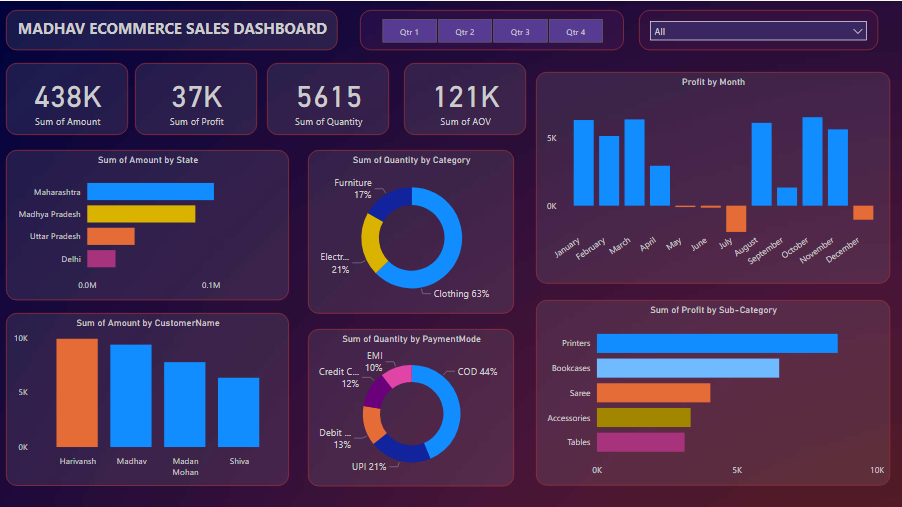

The dashboard page shown, as its layout file describes it:
{"tool":"powerbi","page":{"name":"Page 1","canvas":[1280,720],"ordinal":0},"visuals":[{"type":"textbox","box":[10.1,13.4,469.7,57],"z":0},{"type":"columnChart","title":"Profit by Month","fields":{"Category":["Orders.Order Date.Variation.Date Hierarchy.Month"],"Y":["Sum(Details.Profit)"]},"box":[761.6,100.7,501.6,300.3],"z":1000},{"type":"barChart","fields":{"Category":["Details.Sub-Category"],"Y":["Sum(Details.Profit)"]},"box":[761.6,424.4,501.6,263.4],"z":2000},{"type":"donutChart","fields":{"Category":["Details.Category"],"Y":["Sum(Details.Quantity)"]},"box":[437.9,211.4,291.9,231.5],"z":3000},{"type":"donutChart","fields":{"Y":["Sum(Details.Quantity)"],"Category":["Details.PaymentMode"]},"box":[437.9,464.7,291.9,223.1],"z":4000},{"type":"card","fields":{"Values":["Sum(Details.Amount)"]},"box":[10.1,87.2,172.8,102.3],"z":5000},{"type":"card","fields":{"Values":["Sum(Details.Profit)"]},"box":[192.9,87.2,172.8,102.3],"z":6000},{"type":"card","fields":{"Values":["Sum(Details.Quantity)"]},"box":[379.1,87.2,172.8,102.3],"z":7000},{"type":"card","fields":{"Values":["Sum(Details.AOV)"]},"box":[573.7,87.2,172.8,102.3],"z":8000},{"type":"barChart","fields":{"Category":["Orders.State"],"Y":["Sum(Details.Amount)"]},"box":[10.1,211.4,400.9,213.1],"z":9000},{"type":"columnChart","fields":{"Category":["Orders.CustomerName"],"Y":["Sum(Details.Amount)"]},"box":[10.1,442.9,400.9,244.9],"z":10000},{"type":"slicer","fields":{"Values":["Orders.Order Date.Variation.Date Hierarchy.Quarter"]},"box":[511.7,13.4,374.1,57],"z":11000},{"type":"slicer","fields":{"Values":["Orders.State"]},"box":[907.6,13.4,338.9,57],"z":11001}]}

Visuals, with their boxes in screenshot pixels (x1, y1, x2, y2), scaled from the page's 1280x720 canvas onto the 902x507 screenshot:
textbox: [7, 9, 338, 50]
"Profit by Month" columnChart: [537, 71, 890, 282]
barChart - Details.Sub-Category x Sum(Details.Profit): [537, 299, 890, 484]
donutChart - Details.Category x Sum(Details.Quantity): [309, 149, 514, 312]
donutChart - Sum(Details.Quantity) x Details.PaymentMode: [309, 327, 514, 484]
card - Sum(Details.Amount): [7, 61, 129, 133]
card - Sum(Details.Profit): [136, 61, 258, 133]
card - Sum(Details.Quantity): [267, 61, 389, 133]
card - Sum(Details.AOV): [404, 61, 526, 133]
barChart - Orders.State x Sum(Details.Amount): [7, 149, 290, 299]
columnChart - Orders.CustomerName x Sum(Details.Amount): [7, 312, 290, 484]
slicer - Orders.Order Date.Variation.Date Hierarchy.Quarter: [361, 9, 624, 50]
slicer - Orders.State: [640, 9, 878, 50]
